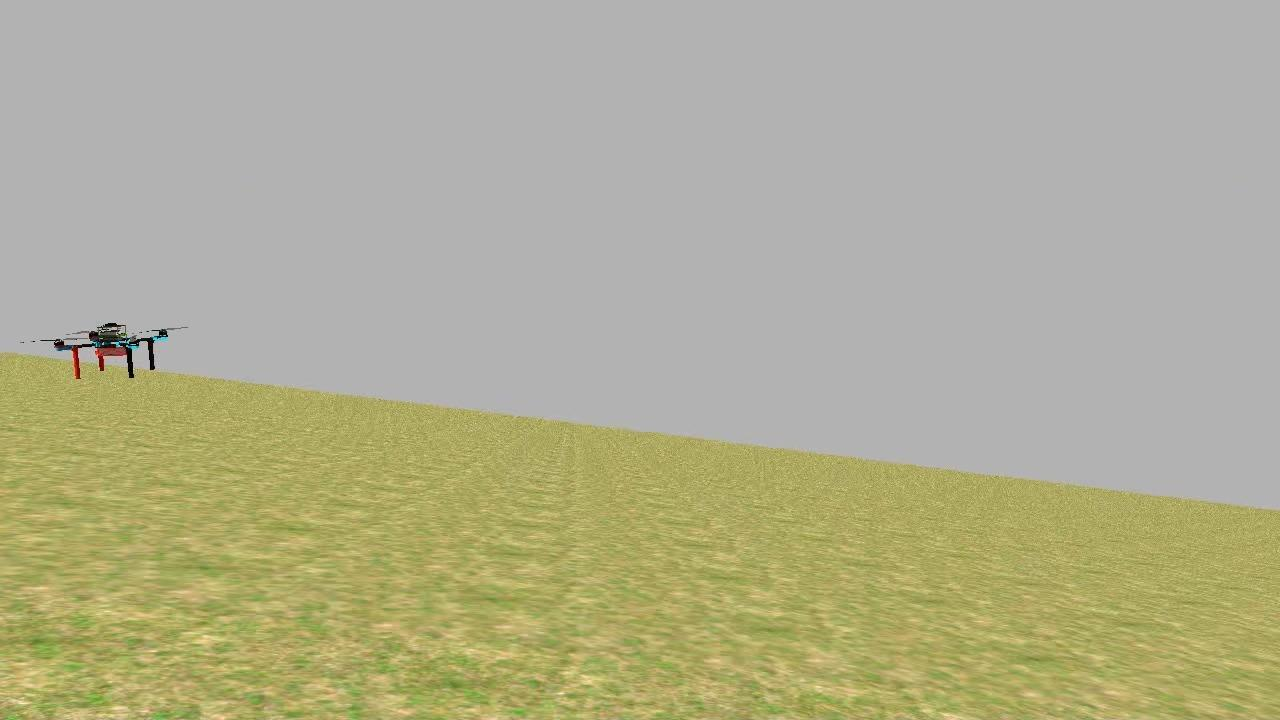UAV: (27, 316, 185, 388)
